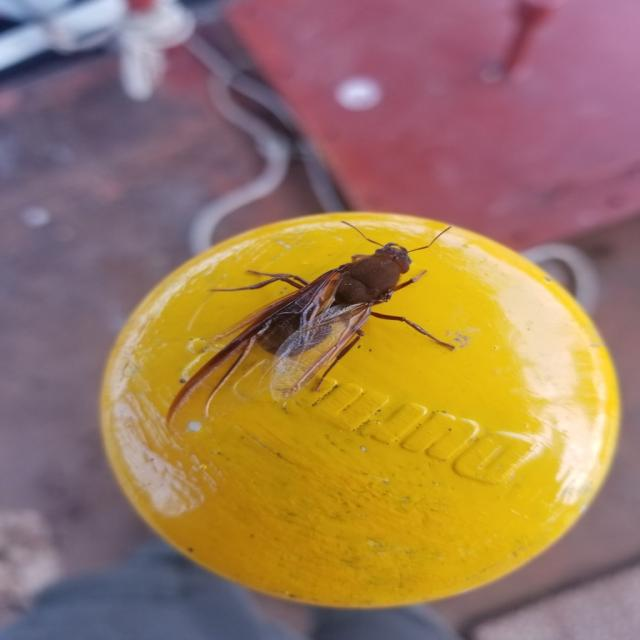Alive-Female-Alate: (164, 220, 456, 441)
